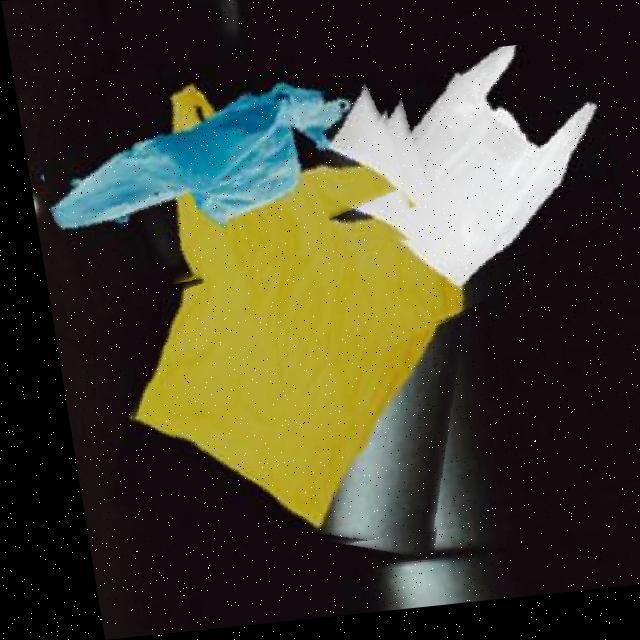plasticcover: (70, 63, 504, 571), (285, 49, 623, 351), (25, 52, 411, 304)
